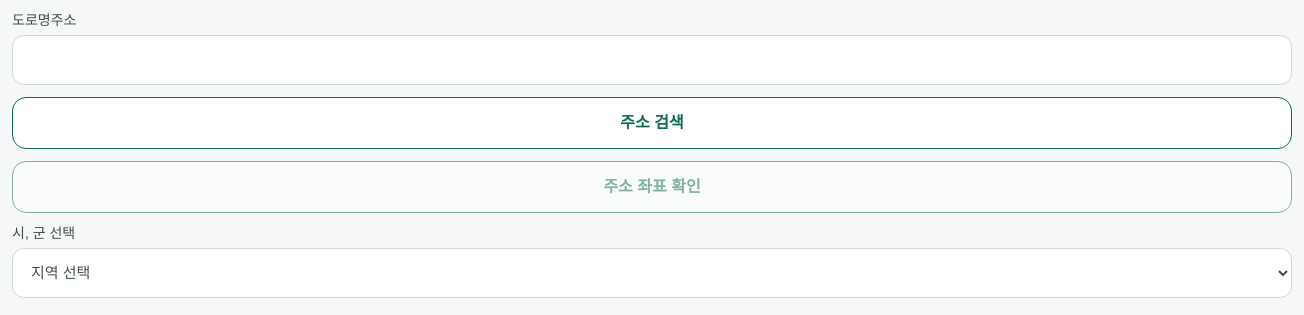
it: 우편번호 선택과 좌표 재확인에 코드를 보내고 직접 수정하면 이전 코드를 제거한다
The image size is (1304, 315).
Later steps or results of the test are not shown.
Step 1. Click the button "주소 검색" → [652, 123], box [12,97,1292,149]
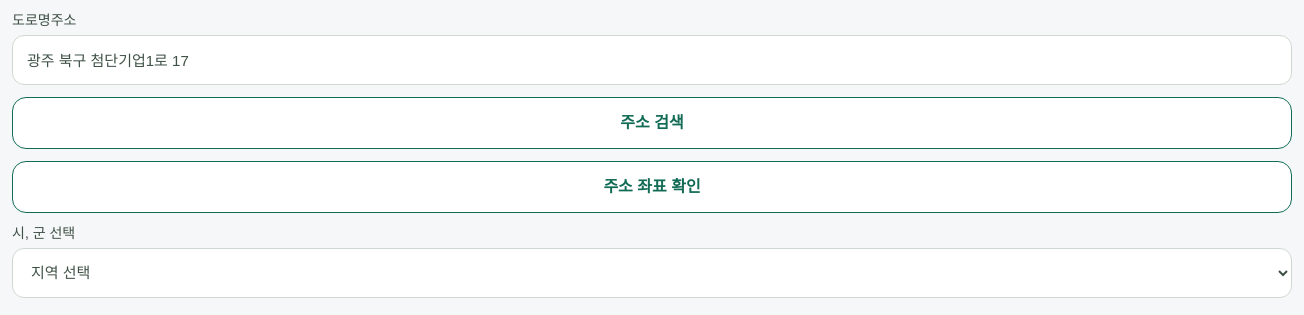
Check: the button "주소 좌표 확인" is enabled
Step 2. Click the button "주소 좌표 확인" → [652, 187], box [12,161,1292,213]
Check: the button "주소 좌표 확인" is enabled, box [12,161,1292,213]
